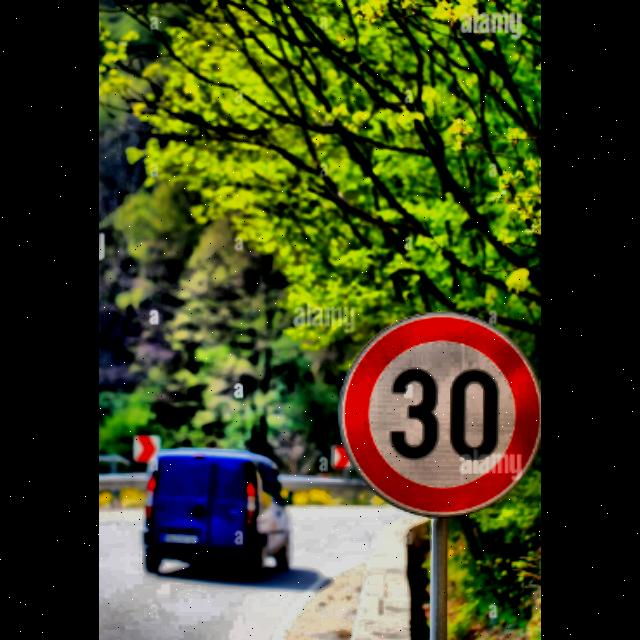speed_30: (339, 312, 541, 512)
